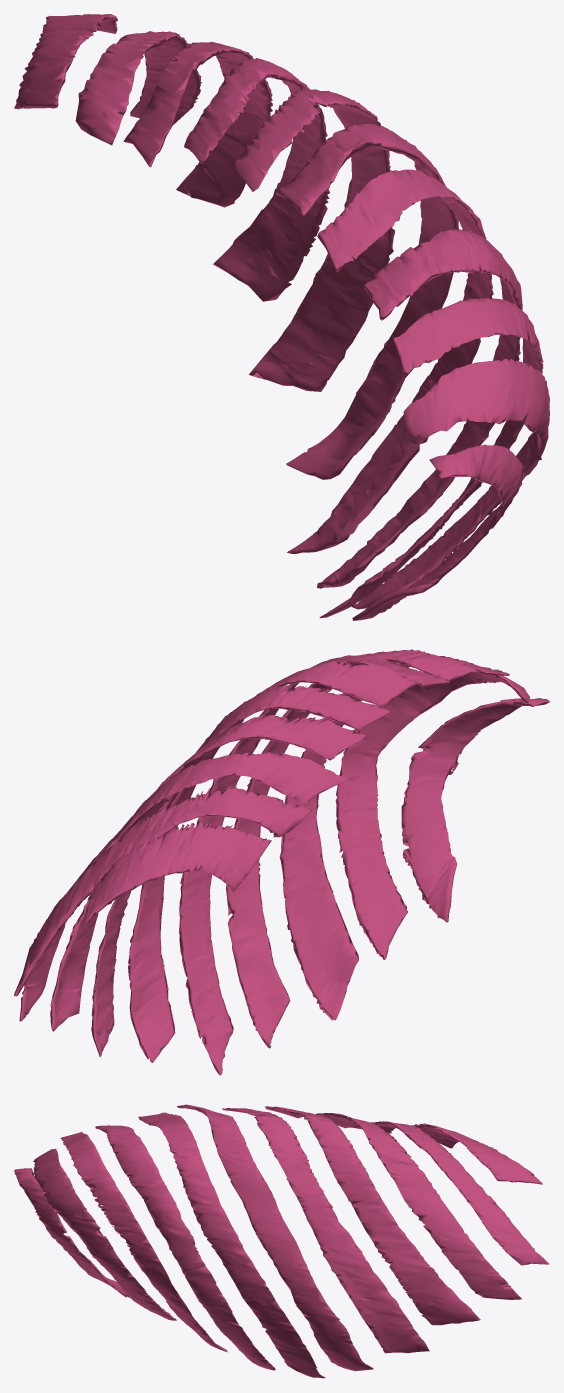
The picture shows the model from 3 angles, top to bottom: view 1: azimuth 30°, elevation 25°; view 2: azimuth 150°, elevation 25°; view 3: azimuth 270°, elevation 25°; orthographic projection. The views are drawn at different scales.
Parts seen in each view (by area): view 1: 左侧肋间外肌; view 2: 左侧肋间外肌; view 3: 左侧肋间外肌.
Part boxes in pixels (<box>): 左侧肋间外肌: <box>14,14,549,620</box>; 左侧肋间外肌: <box>14,649,549,1075</box>; 左侧肋间外肌: <box>14,1104,549,1378</box>.
Size of the model in its own units: 0.1649 by 0.2873 by 0.5475.
